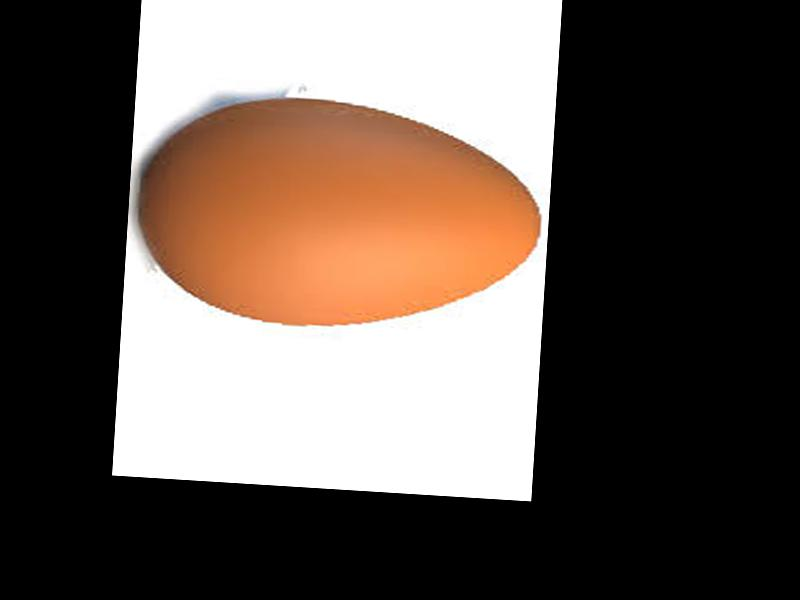Eggs: (131, 90, 544, 340)
